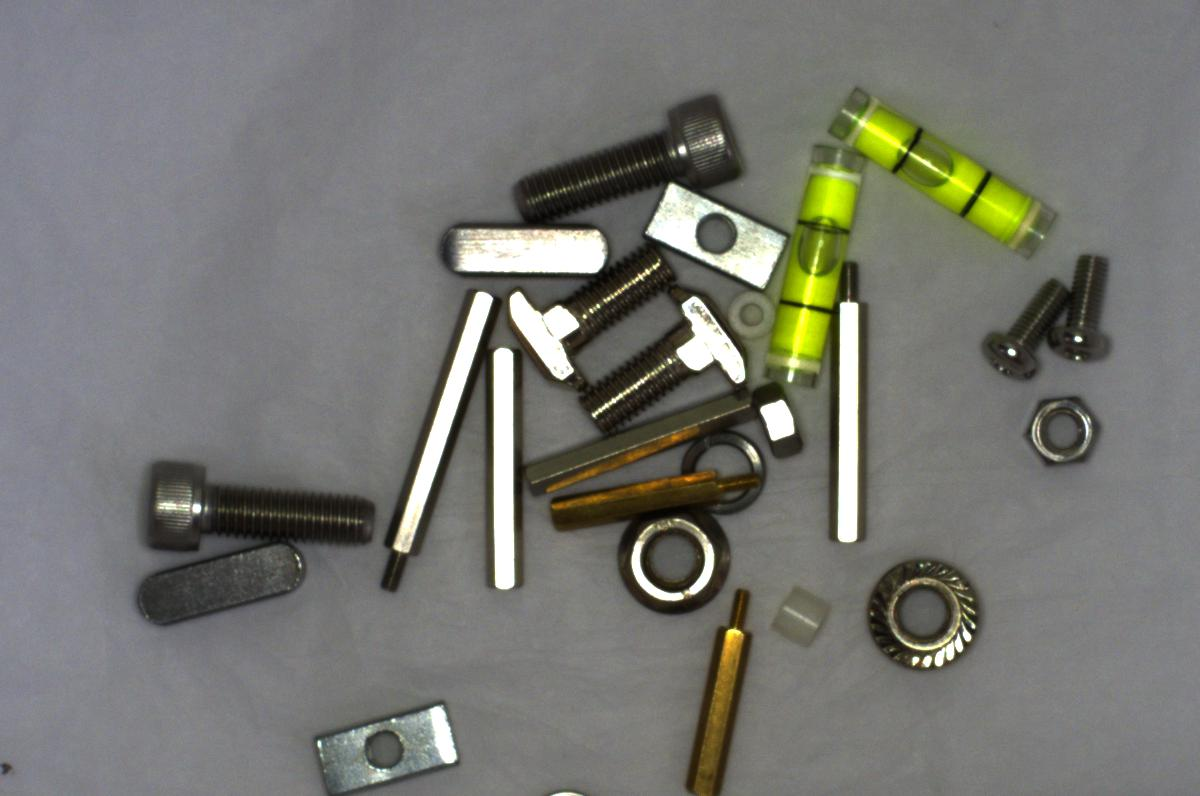Double hexagonal column: (530, 383, 761, 491), (482, 340, 534, 605)
Flange nut: (856, 549, 985, 682)
Hexagon nut: (1015, 396, 1105, 467), (747, 387, 805, 464)
Hexagon pillar: (683, 591, 757, 792), (547, 467, 769, 528)
Hexagon screw: (500, 91, 747, 221), (141, 454, 378, 549)
Hexagonal steel column: (366, 286, 503, 599), (821, 256, 871, 554)
Horizontal bubble: (828, 87, 1062, 255), (770, 139, 855, 381)
Keybar: (111, 536, 328, 632), (426, 201, 621, 289)
Plastic cushion pillar: (766, 585, 834, 646), (724, 283, 778, 337)
Rectangular nut: (646, 177, 788, 289), (308, 696, 462, 791)
Round head screw: (971, 267, 1066, 381), (1056, 233, 1123, 369)
Spring washer: (688, 430, 769, 514)
T-shaped screw: (575, 285, 743, 423), (498, 259, 683, 380)
